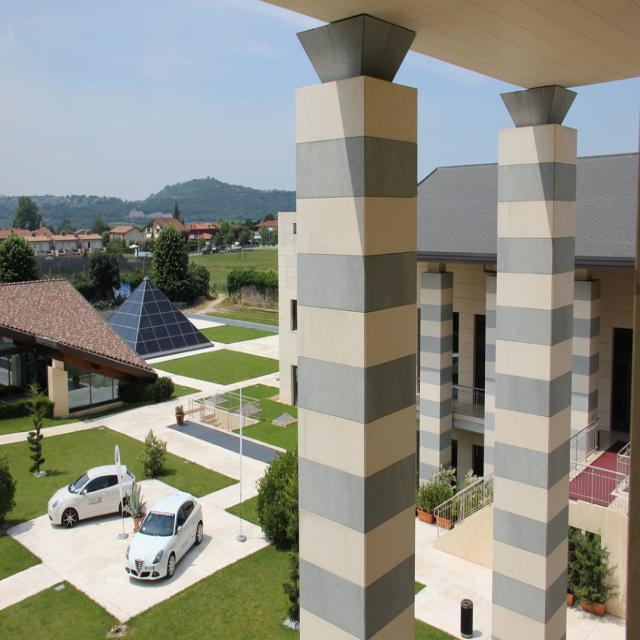car: (119, 487, 201, 589), (41, 460, 139, 545)
